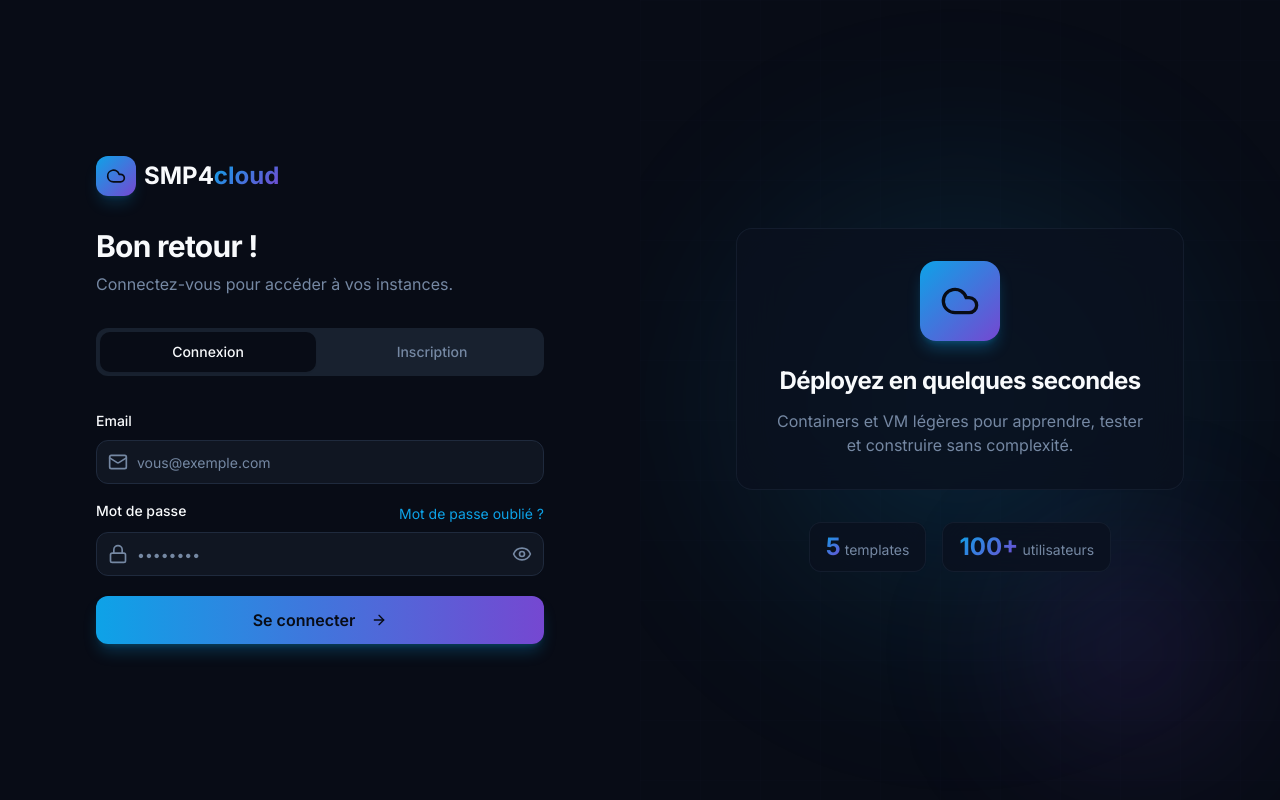
Auth Page › should validate password minimum length
The image size is (1280, 800).
Type "test@example.com" into the field with placeholder "vous@exemple.com" at {"x": 320, "y": 462}, box [96,440,544,484]
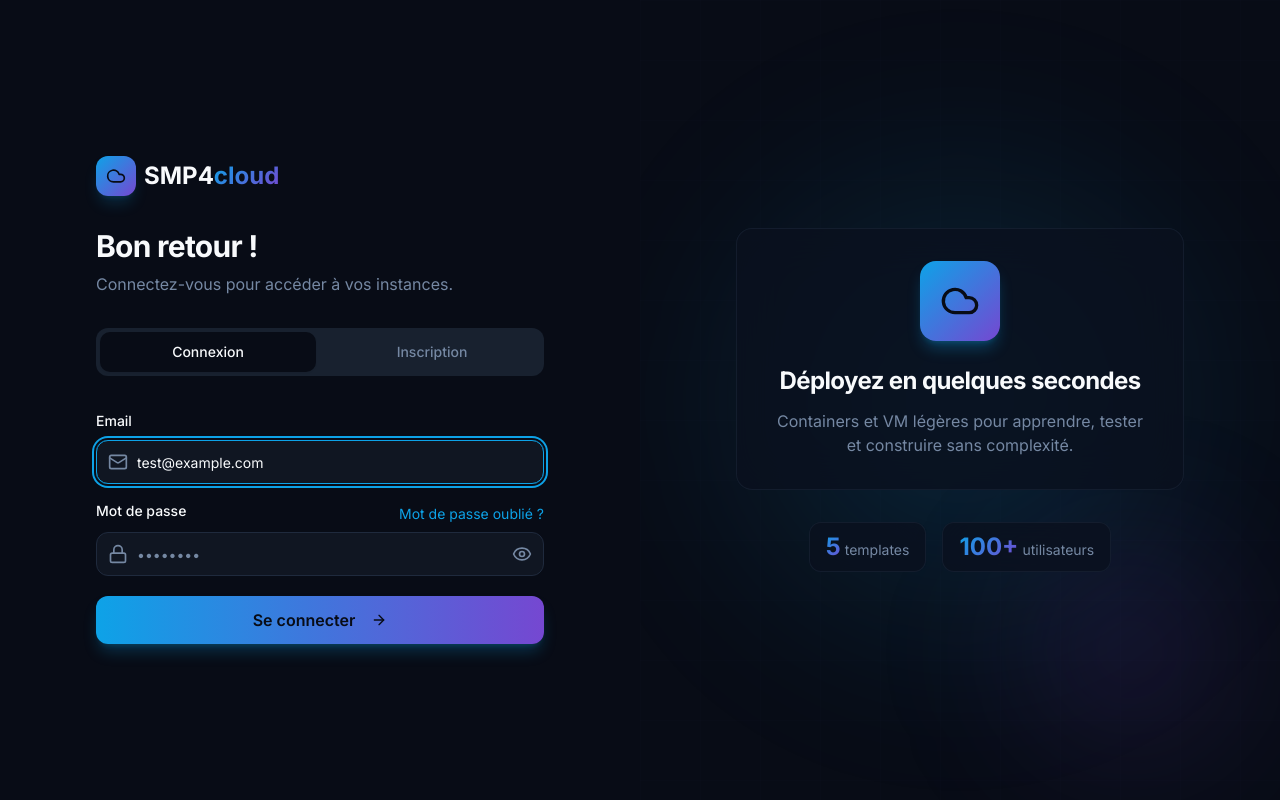
Type "123" into the password field with placeholder "••••••••" at {"x": 320, "y": 554}, box [96,532,544,576]
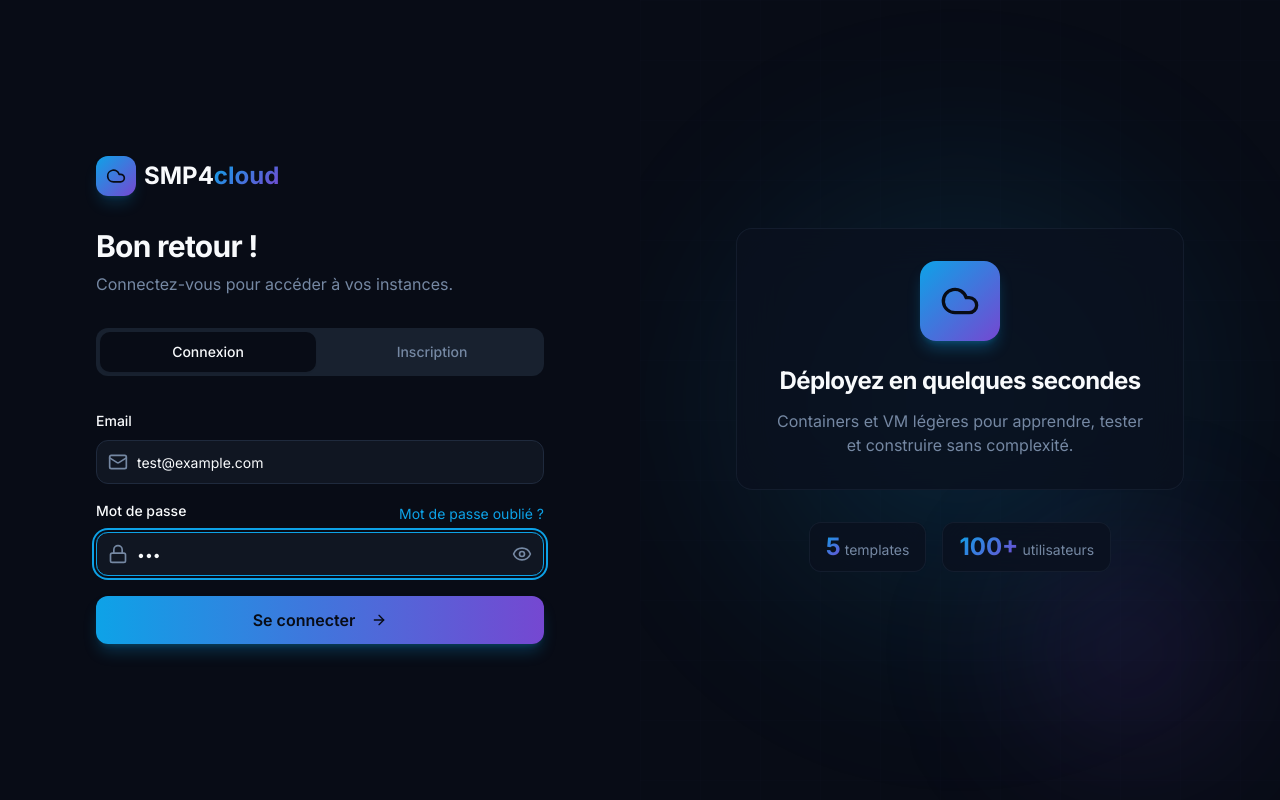
Click the button "Se connecter" at {"x": 320, "y": 620}, box [96,596,544,644]
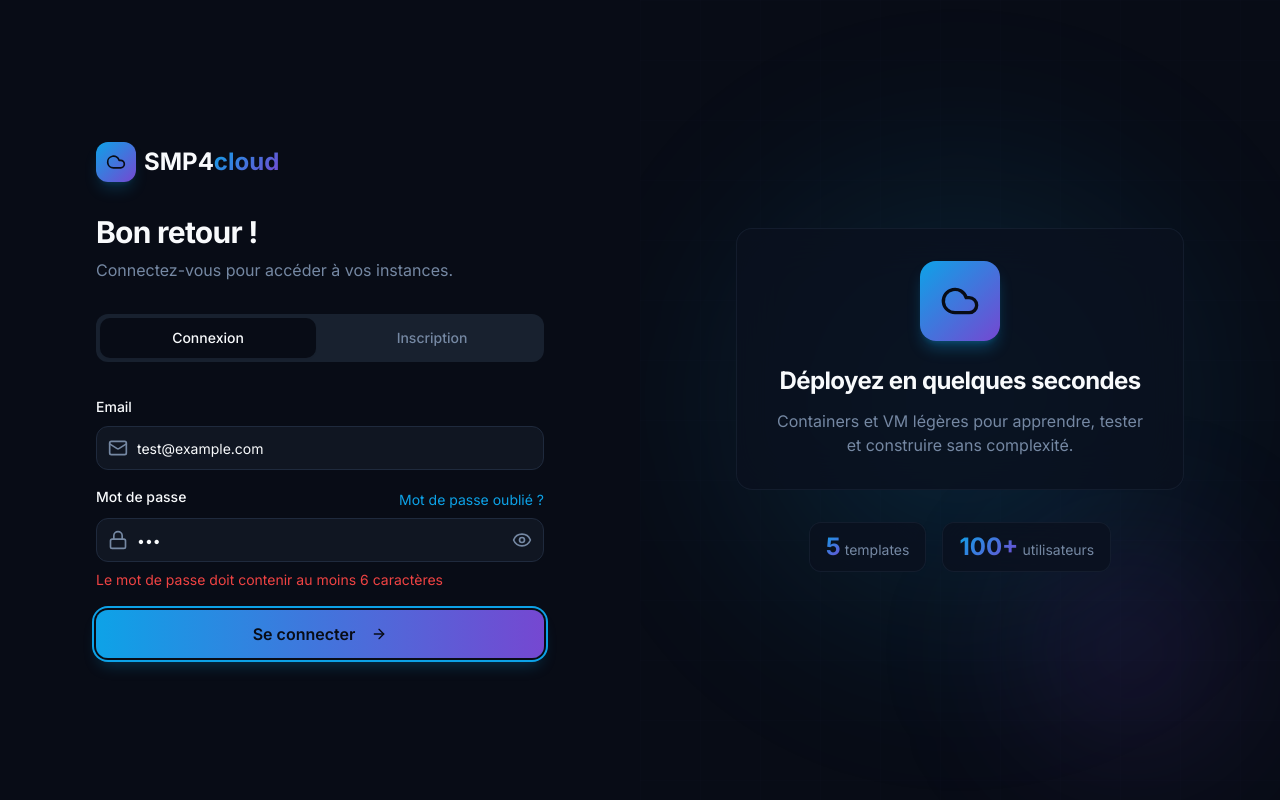
Check: the text "Le mot de passe doit contenir au moins 6 caractères" is shown, box [96,571,443,588]
